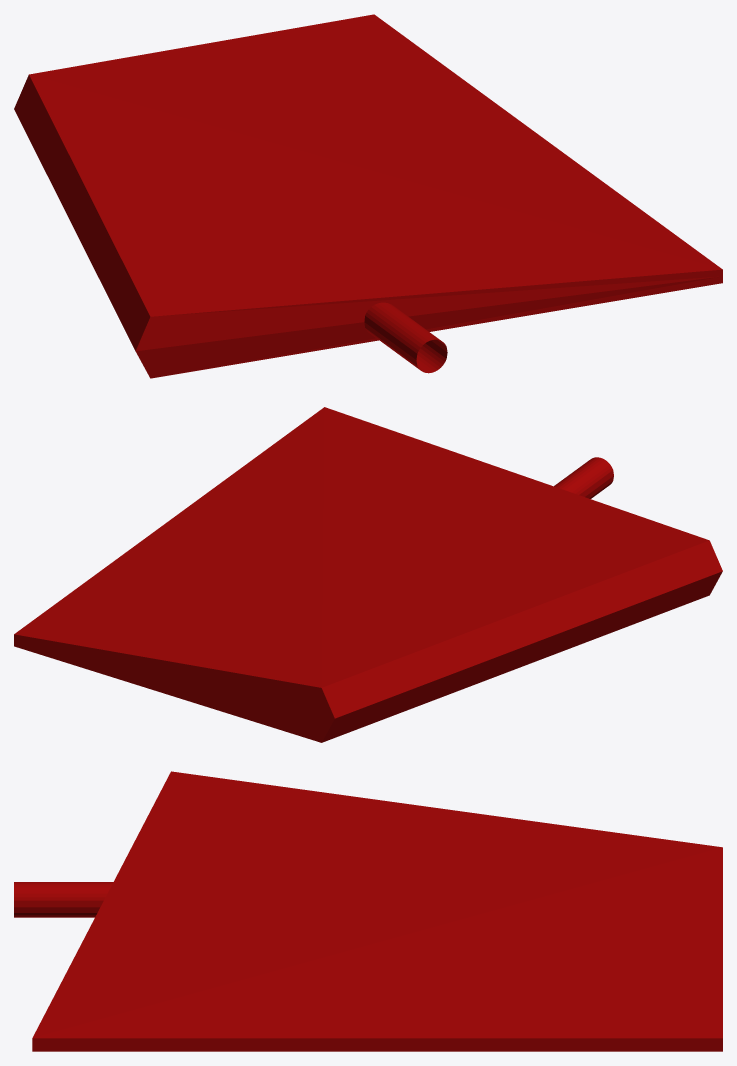
The model's file is red_fin.obj.
3 renders of one model, top to bottom at view 1: azimuth 30°, elevation 25°; view 2: azimuth 150°, elevation 25°; view 3: azimuth 270°, elevation 25°, orthographic. The views are drawn at different scales.
Visible parts, largest first — view 1: red_fin; view 2: red_fin; view 3: red_fin.
Part boxes in pixels (<box>): red_fin: <box>14,14,722,378</box>; red_fin: <box>14,407,722,742</box>; red_fin: <box>14,771,722,1051</box>.
Size of the model in its own units: 0.0618 by 0.00705 by 0.074.
